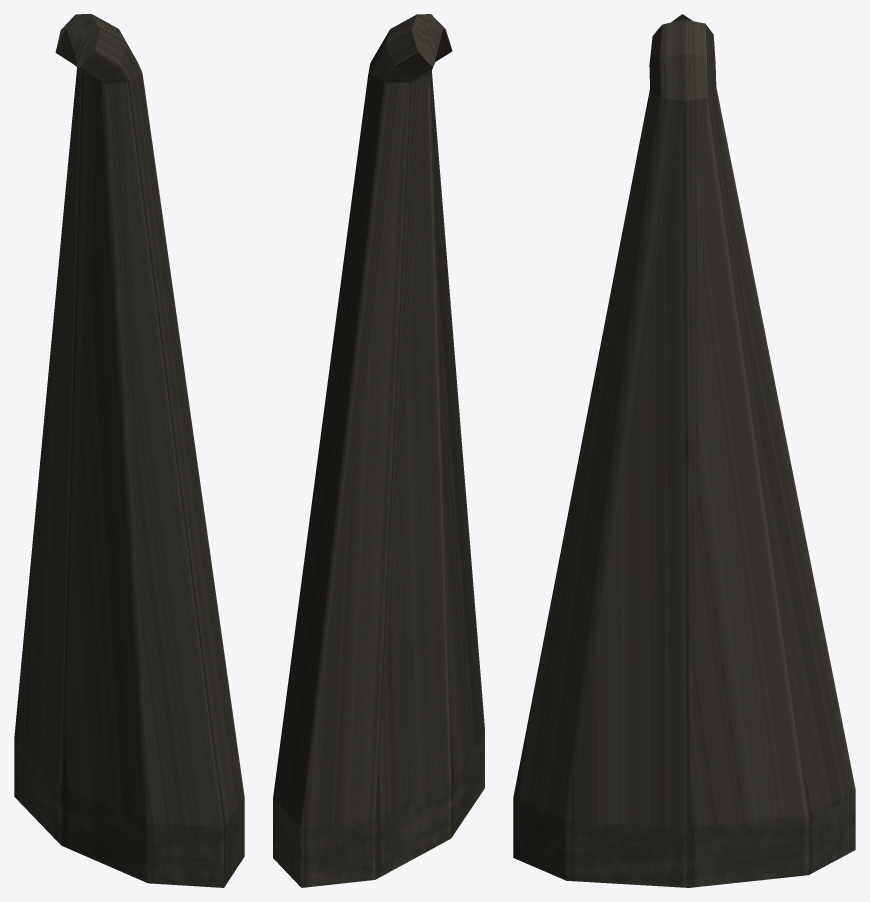
Rendered from cylinder_lev3.glb.
3 renders of one model, left to right at view 1: azimuth 30°, elevation 25°; view 2: azimuth 150°, elevation 25°; view 3: azimuth 270°, elevation 25°, orthographic.
Visible parts, largest first — view 1: cylinder_lev3; view 2: cylinder_lev3; view 3: cylinder_lev3.
Boxes of the visible parts, left/top/right/bottom form: cylinder_lev3: left=14, top=14, right=244, bottom=887; cylinder_lev3: left=273, top=14, right=484, bottom=887; cylinder_lev3: left=513, top=14, right=855, bottom=887.
Bounding box in the file's own units: 0.0891 × 0.4975 × 0.1892.
1 material, 1 textured.
